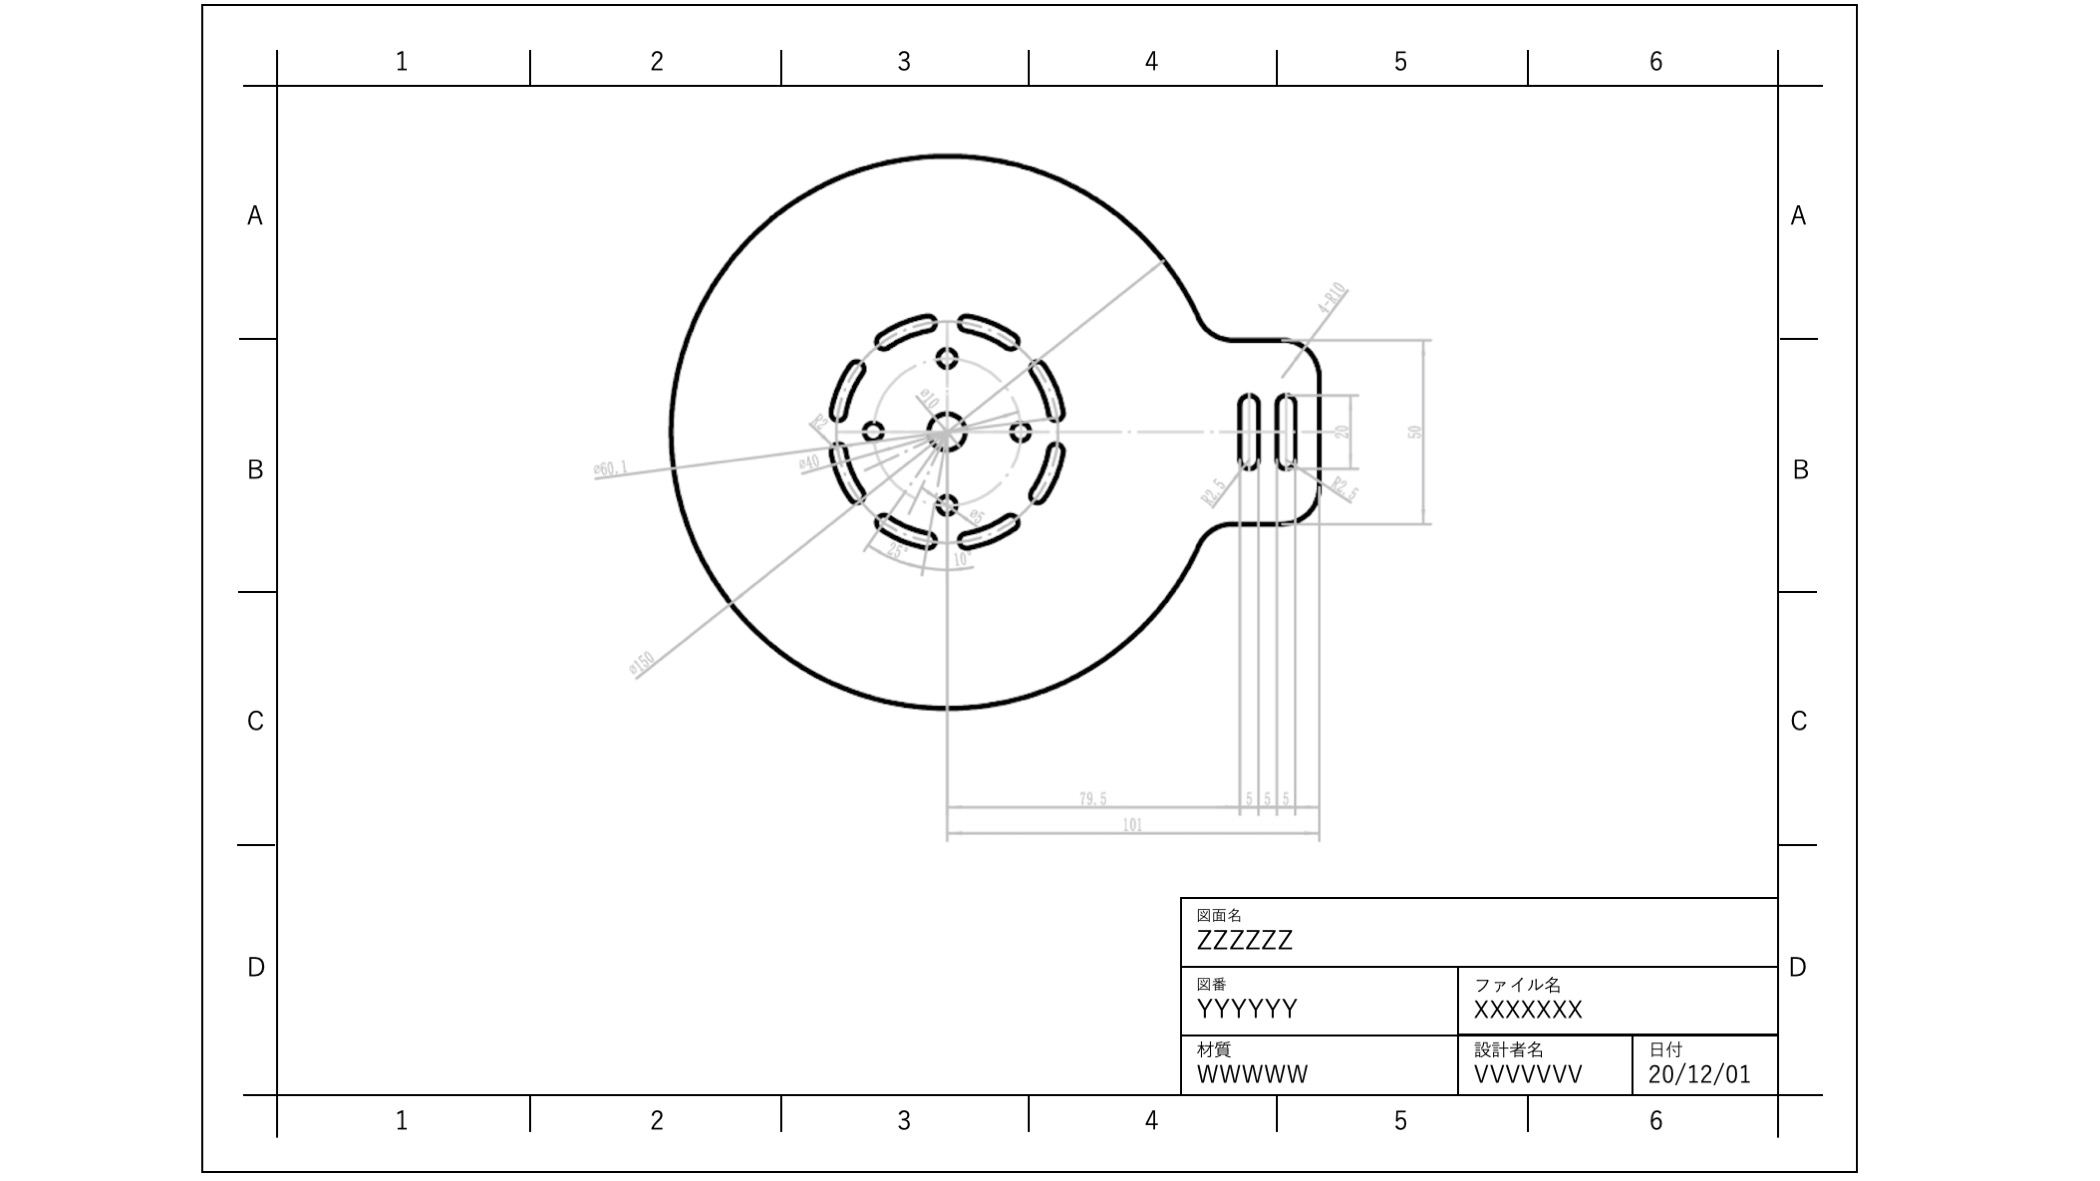circle: (927, 401, 971, 456), (1002, 407, 1037, 448), (929, 487, 971, 515), (929, 346, 965, 378), (852, 410, 887, 438)
round_rectangle: (826, 353, 868, 435), (822, 438, 868, 509), (958, 503, 1021, 551), (949, 304, 1018, 348), (1233, 382, 1263, 477), (862, 309, 940, 345), (1033, 430, 1067, 505), (1027, 353, 1072, 410), (1274, 382, 1300, 472), (865, 531, 930, 561)
